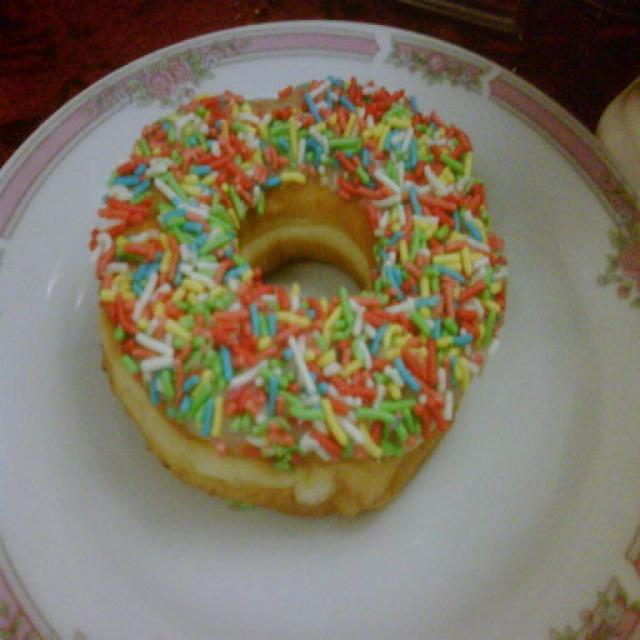Donuts: (101, 89, 515, 549)
